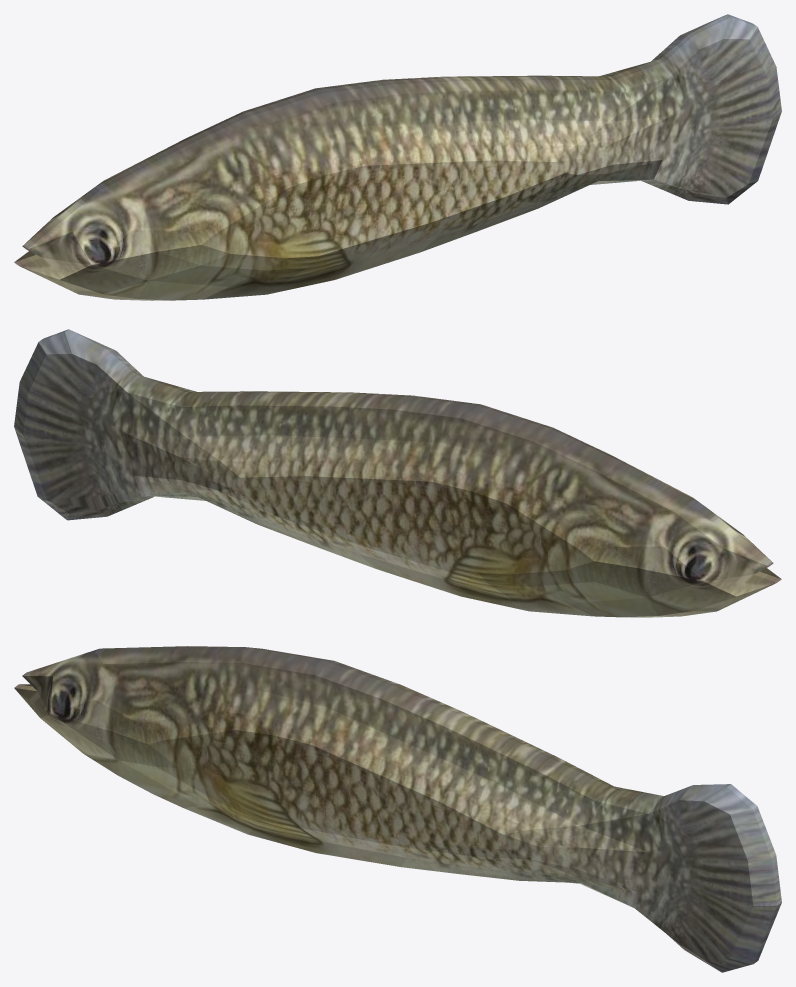
The model's file is Mummichog.glb.
The picture shows the model from 3 angles, top to bottom: view 1: azimuth 30°, elevation 25°; view 2: azimuth 150°, elevation 25°; view 3: azimuth 330°, elevation 25°; orthographic projection.
Parts seen in each view (by area): view 1: Mummichog; view 2: Mummichog; view 3: Mummichog.
Part boxes in pixels (x1=…): Mummichog: x1=14, y1=14, x2=781, y2=300; Mummichog: x1=14, y1=329, x2=781, y2=617; Mummichog: x1=14, y1=646, x2=781, y2=972.
Bounding box in the file's own units: 58.41 × 15.31 × 7.
1 material, 1 textured.
